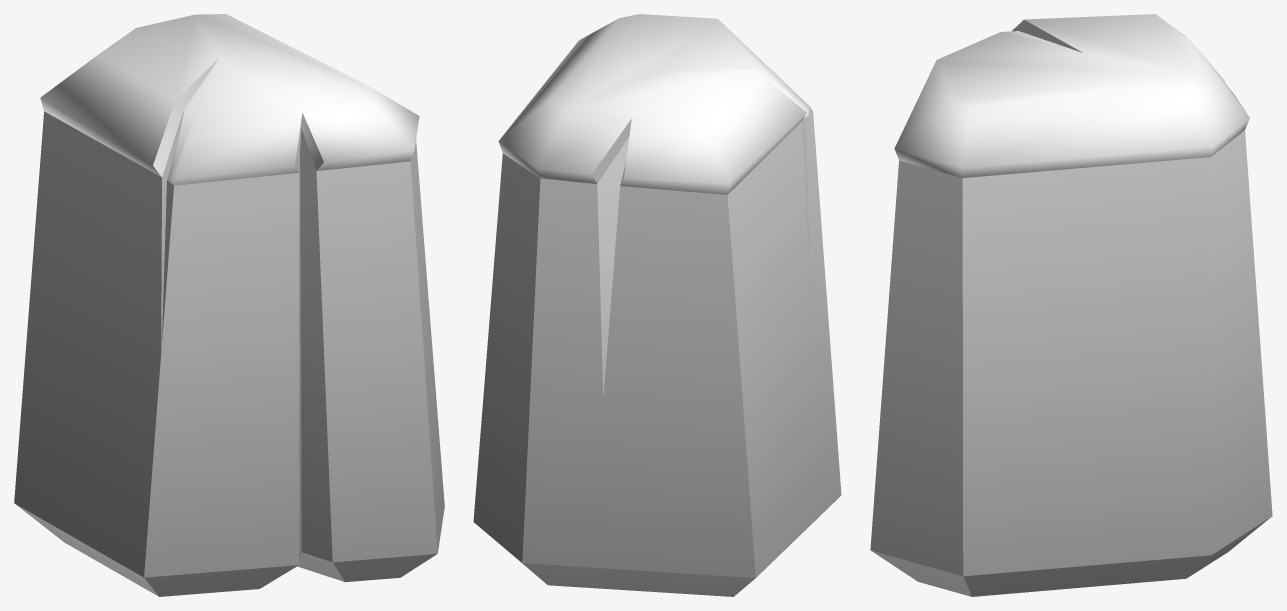
Rendered from Rock_11.fbx.
The picture shows the model from 3 angles, left to right: view 1: azimuth 30°, elevation 25°; view 2: azimuth 150°, elevation 25°; view 3: azimuth 270°, elevation 25°; orthographic projection. The views are drawn at different scales.
Visible parts, largest first — view 1: Rock_11, Rock_11_Snow; view 2: Rock_11, Rock_11_Snow; view 3: Rock_11, Rock_11_Snow.
Boxes of the visible parts, bbox=[...] form: Rock_11: bbox=[14, 111, 444, 596]; Rock_11_Snow: bbox=[40, 14, 419, 185]; Rock_11: bbox=[473, 112, 841, 596]; Rock_11_Snow: bbox=[498, 14, 812, 194]; Rock_11: bbox=[870, 130, 1272, 596]; Rock_11_Snow: bbox=[894, 14, 1249, 177].
Size of the model in its own units: 1.31 by 1.89 by 1.43.
